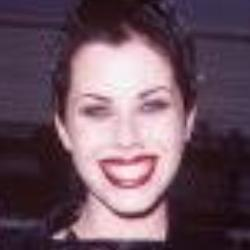face: (28, 5, 217, 229)
